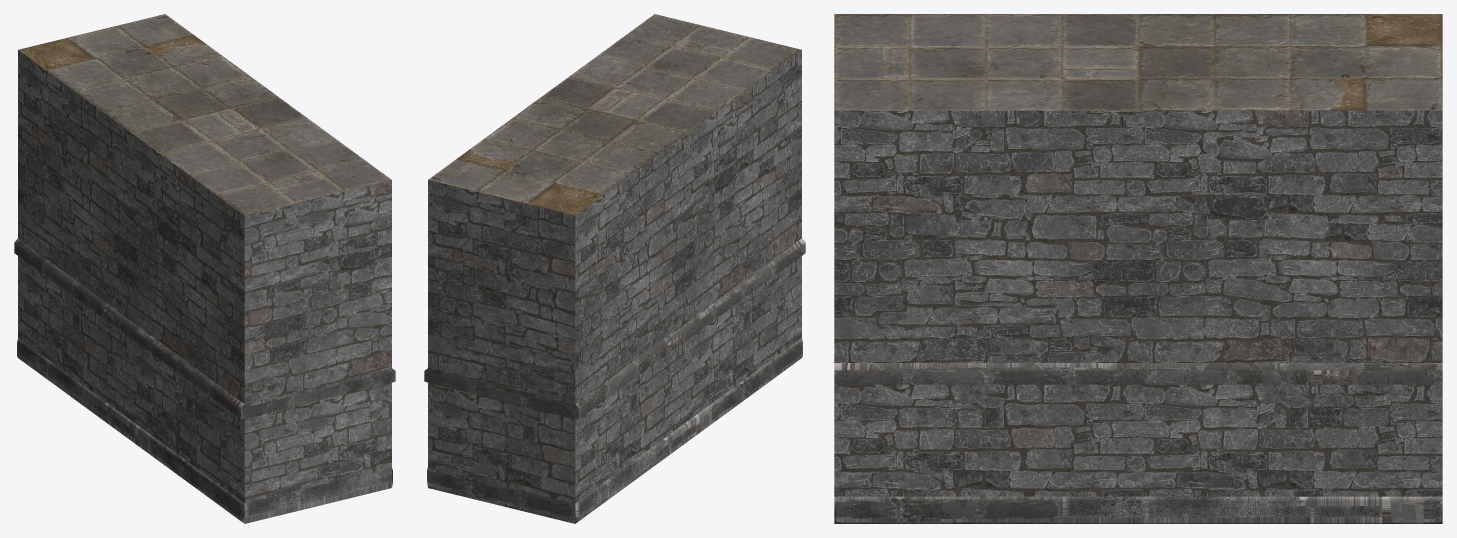
The model's file is MC_Castle_Wall_C_8m.fbx.
The picture shows the model from 3 angles, left to right: view 1: azimuth 30°, elevation 25°; view 2: azimuth 150°, elevation 25°; view 3: azimuth 270°, elevation 25°; orthographic projection. The views are drawn at different scales.
Parts seen in each view (by area): view 1: MC_Castle_Wall_C_8m; view 2: MC_Castle_Wall_C_8m; view 3: MC_Castle_Wall_C_8m.
Part boxes in pixels (x1,y1,x2,y2): MC_Castle_Wall_C_8m: [14, 14, 395, 523]; MC_Castle_Wall_C_8m: [424, 14, 805, 523]; MC_Castle_Wall_C_8m: [834, 14, 1442, 523].
Bounding box in the file's own units: 315 × 600 × 800.
